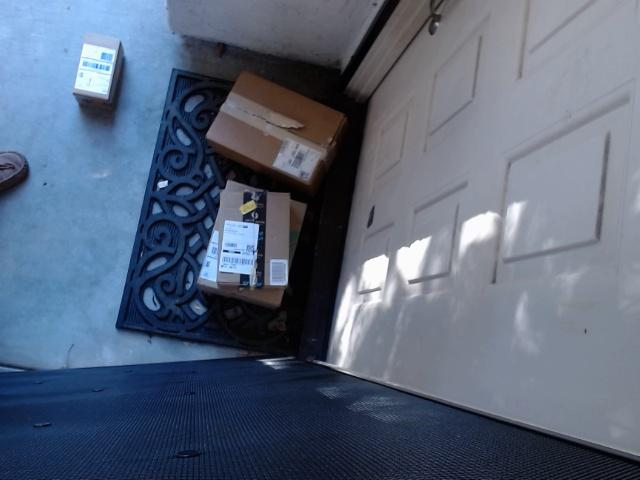box: (203, 49, 348, 195), (200, 177, 309, 315), (212, 186, 299, 295), (66, 19, 148, 109)
